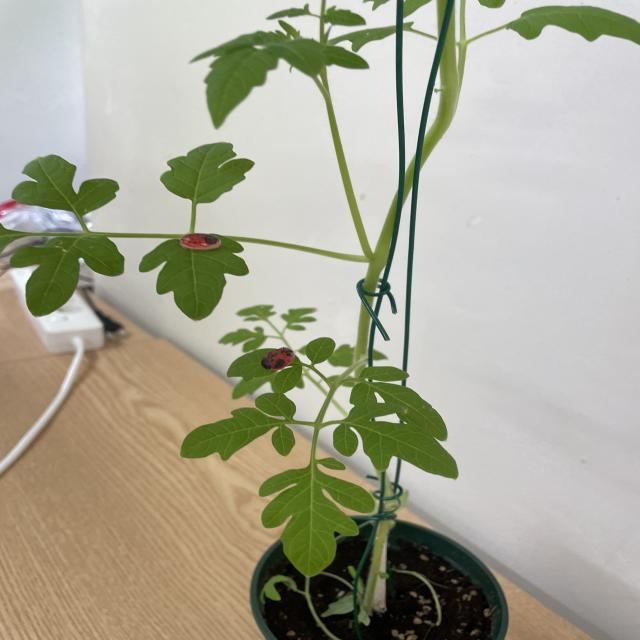bug: (246, 340, 312, 389), (164, 226, 235, 258)
